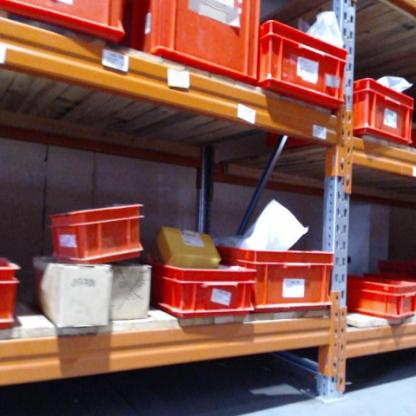small_load_carrier: (125, 3, 263, 83), (208, 247, 338, 315), (257, 23, 350, 109), (53, 195, 149, 268), (148, 263, 259, 319), (1, 1, 128, 45), (344, 75, 416, 148), (343, 275, 416, 325), (0, 248, 23, 328)
